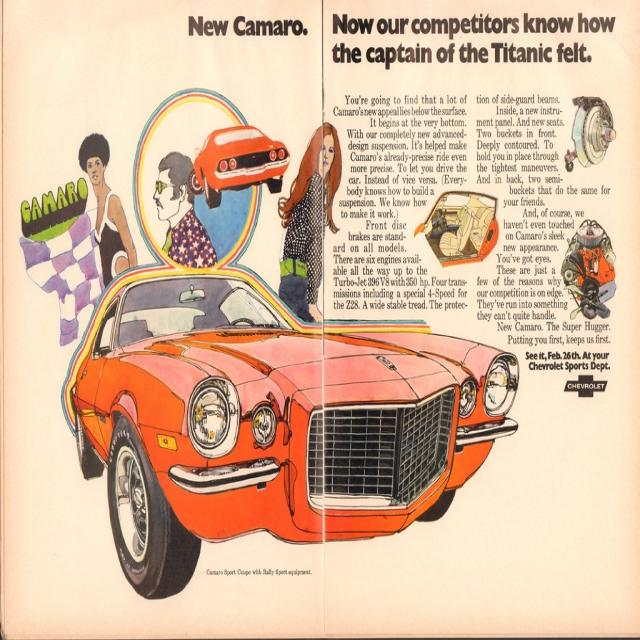car: (69, 261, 520, 601), (186, 117, 287, 207)
